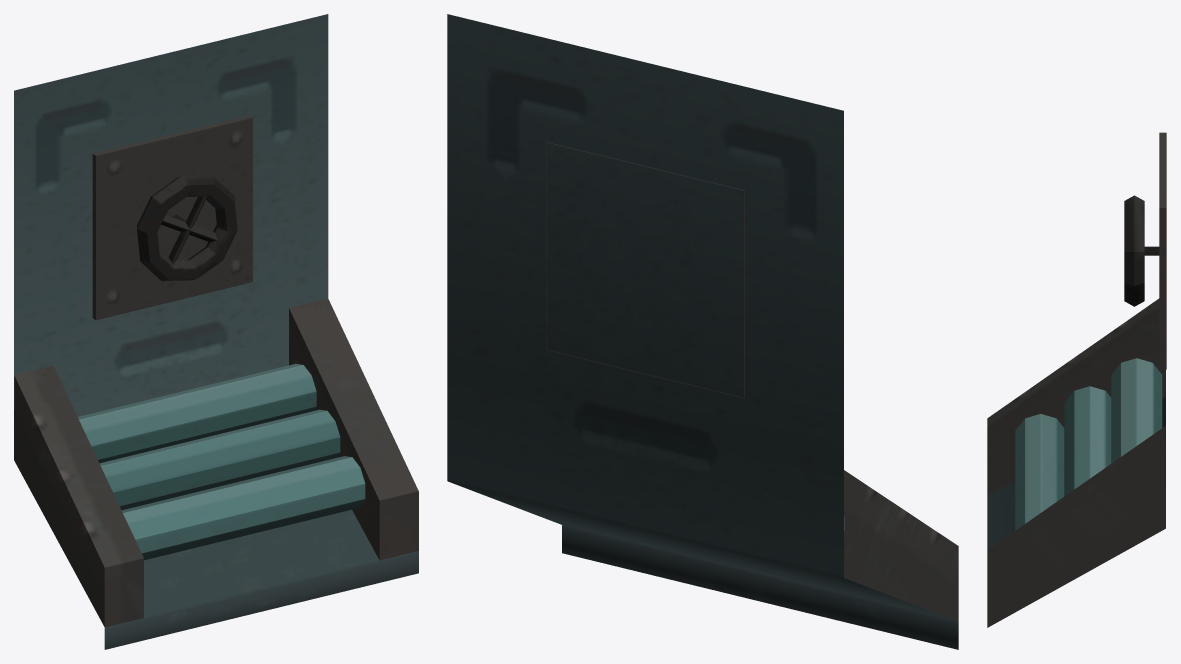
Rendered from MK_Ship_Wall02.fbx.
3 renders of one model, left to right at view 1: azimuth 30°, elevation 25°; view 2: azimuth 150°, elevation 25°; view 3: azimuth 270°, elevation 25°, orthographic. The views are drawn at different scales.
Parts seen in each view (by area): view 1: MK_Ship_Wall02; view 2: MK_Ship_Wall02; view 3: MK_Ship_Wall02.
Part boxes in pixels (<box>): MK_Ship_Wall02: <box>14,14,418,649</box>; MK_Ship_Wall02: <box>447,14,958,649</box>; MK_Ship_Wall02: <box>987,132,1166,627</box>.
Size of the model in its own units: 0.5001 by 0.75 by 0.251.
1 material, 1 textured.
